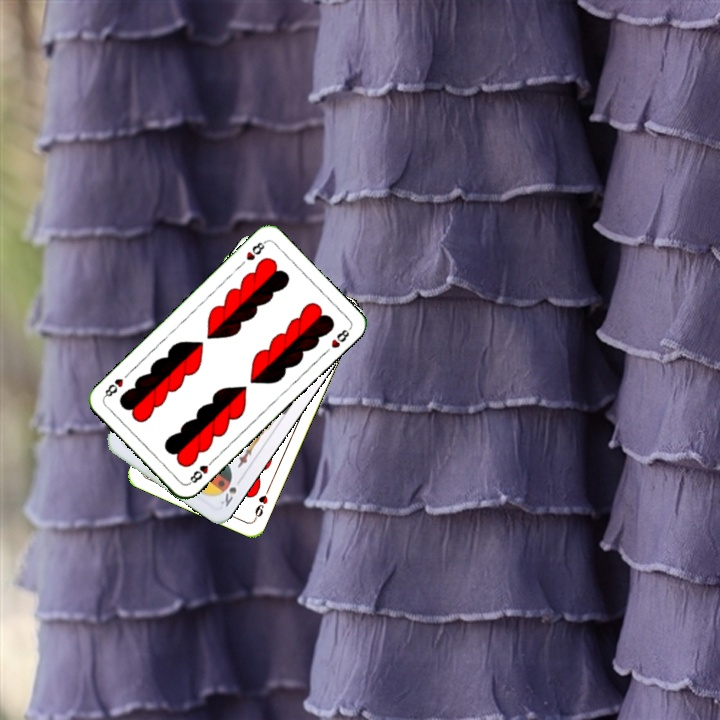H8: (184, 455, 217, 487), (242, 237, 268, 263)
H9: (250, 484, 272, 523)
SK: (215, 483, 239, 509)
